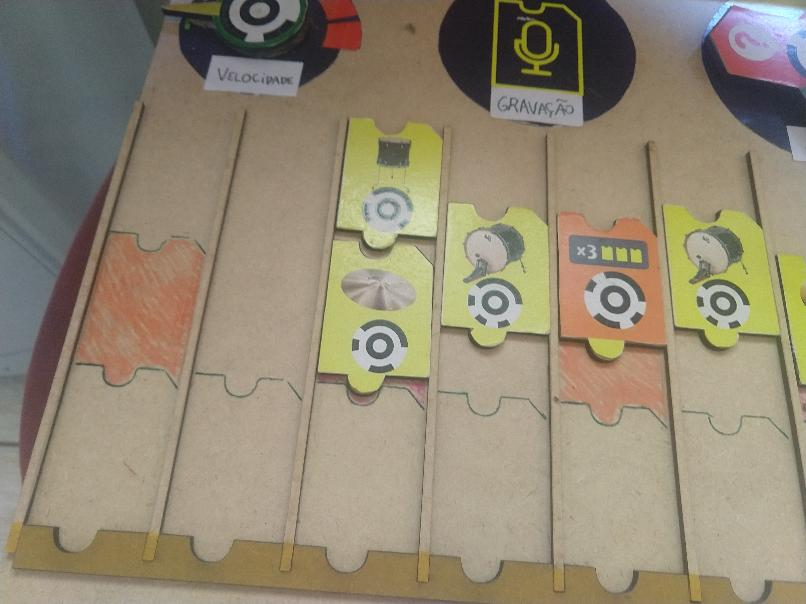bumbo: (661, 201, 780, 351), (441, 199, 554, 350)
